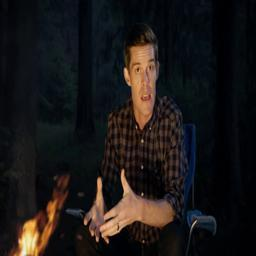fire: (15, 180, 68, 256)
